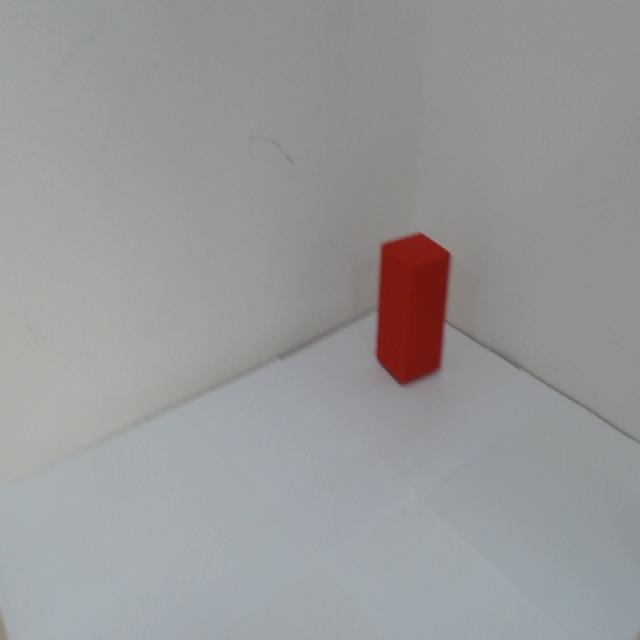cube: (371, 222, 455, 392)
